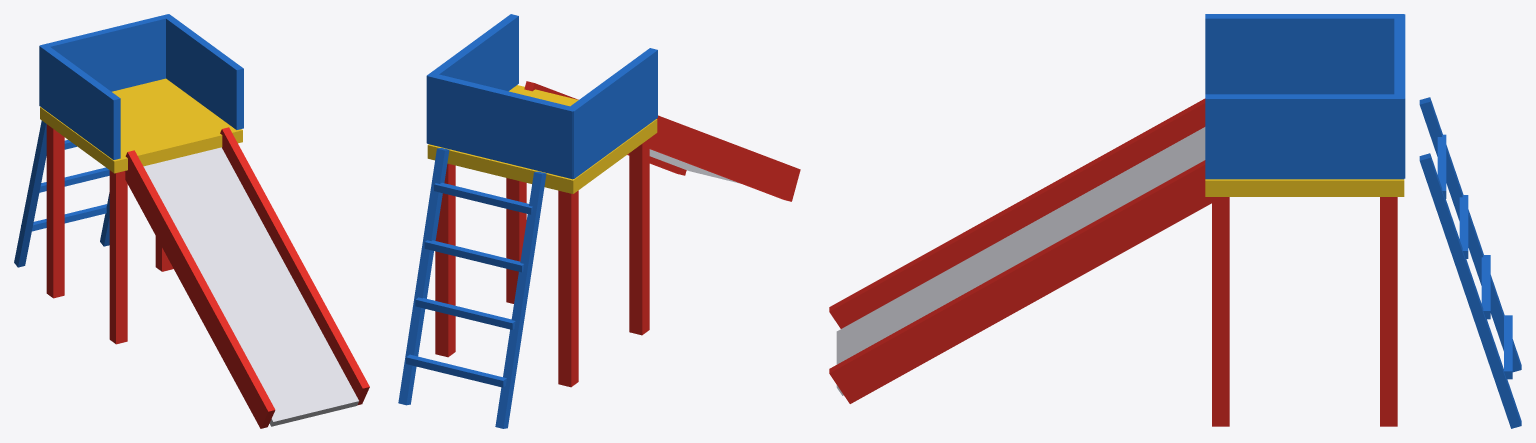
Rendered from slide.glb.
The picture shows the model from 3 angles, left to right: view 1: azimuth 30°, elevation 25°; view 2: azimuth 150°, elevation 25°; view 3: azimuth 270°, elevation 25°; orthographic projection. The views are drawn at different scales.
Parts seen in each view (by area): view 1: slide; view 2: slide; view 3: slide.
Boxes of the visible parts, x1=… form: slide: x1=14, y1=14, x2=369, y2=428; slide: x1=398, y1=14, x2=800, y2=428; slide: x1=829, y1=14, x2=1521, y2=428.
Size of the model in its own units: 0.91 by 1.71 by 3.13.
